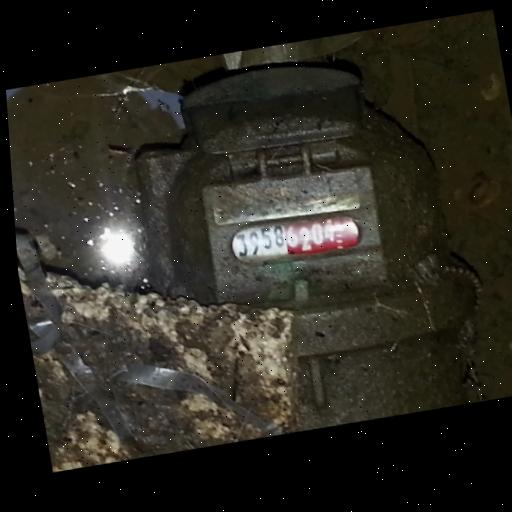0: (309, 220, 327, 254)
2: (296, 221, 314, 255)
3: (231, 229, 251, 260)
4: (321, 217, 339, 251)
5: (257, 224, 277, 257)
6: (283, 222, 301, 256)
8: (271, 223, 289, 256)
9: (246, 226, 265, 259)
border_water_meter_number: (227, 206, 368, 276)
